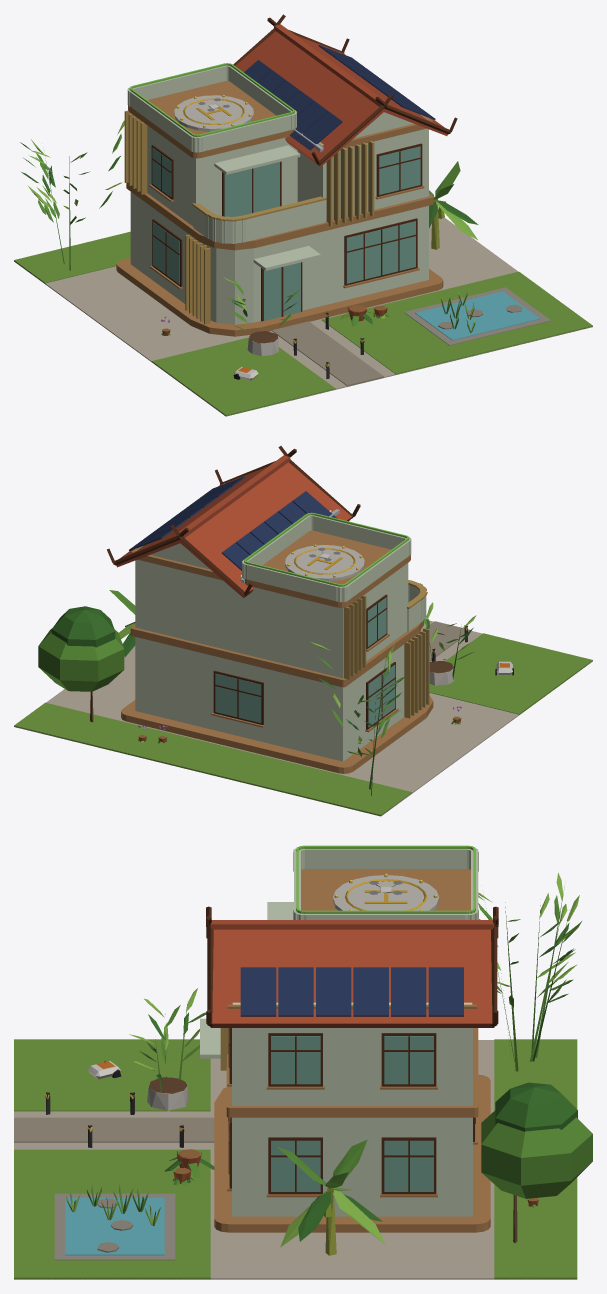
File: home_1.glb
3 views of the same model, one above another, from view 1: azimuth 30°, elevation 25°; view 2: azimuth 150°, elevation 25°; view 3: azimuth 270°, elevation 25° (orthographic). The views are drawn at different scales.
Parts seen in each view (by area): view 1: body, windows; view 2: body, windows; view 3: body, windows.
Part boxes in pixels (left/top/right/bottom): body: left=14, top=14, right=592, bottom=416; windows: left=129, top=63, right=364, bottom=366; body: left=14, top=446, right=592, bottom=816; windows: left=244, top=512, right=467, bottom=653; body: left=14, top=848, right=592, bottom=1279; windows: left=45, top=845, right=475, bottom=1131.
Size of the model in its own units: 16.01 by 8.99 by 16.34.
